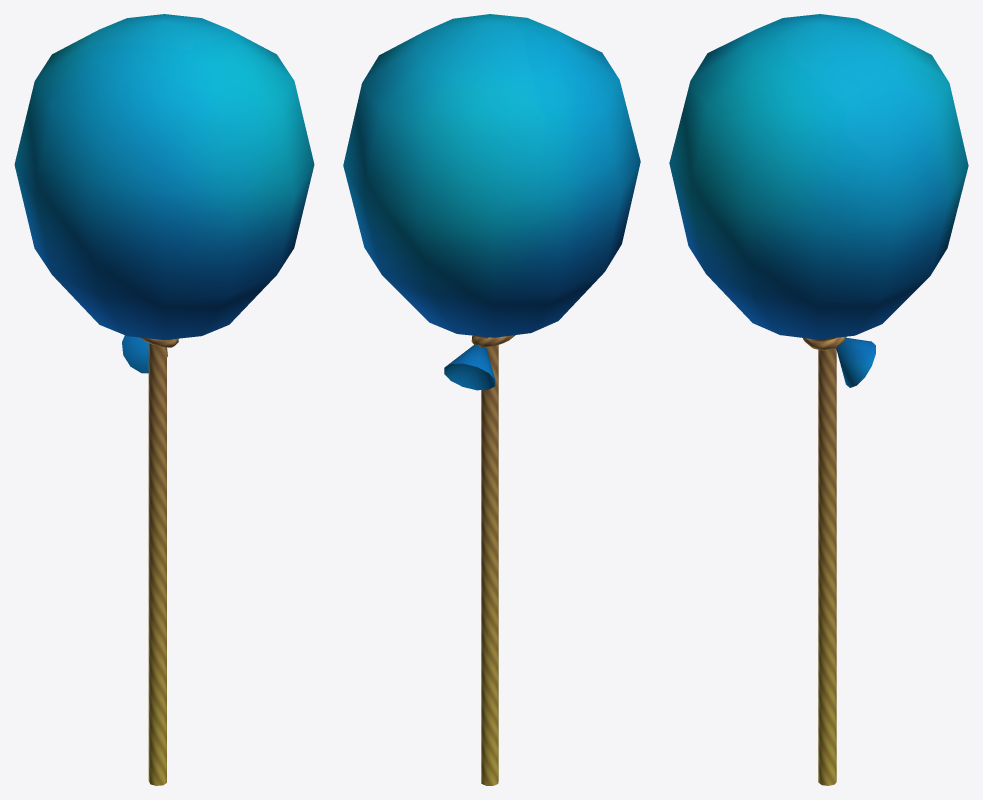
Rendered from SE_Baloon_02.fbx.
3 views of the same model, side by side, from view 1: azimuth 30°, elevation 25°; view 2: azimuth 150°, elevation 25°; view 3: azimuth 270°, elevation 25° (orthographic).
Visible parts, largest first — view 1: SE_Baloon_02; view 2: SE_Baloon_02; view 3: SE_Baloon_02.
Part boxes in pixels (left/top/right/bottom): SE_Baloon_02: left=14, top=14, right=314, bottom=785; SE_Baloon_02: left=343, top=14, right=640, bottom=785; SE_Baloon_02: left=669, top=14, right=968, bottom=785.
Bounding box in the file's own units: 1.84 × 5.14 × 1.84.
